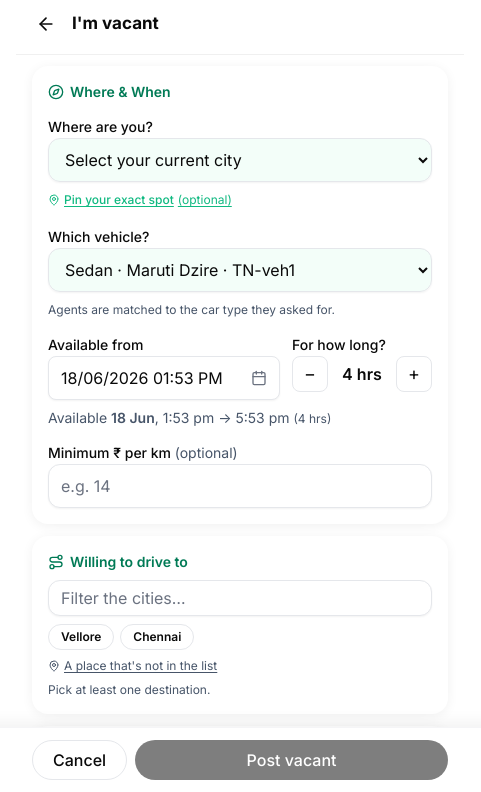
PostVacancyPage › auto-selects the driver primary vehicle so "Post vacant" enables once city + destination are set
Expected: the dropdown labelled "Which vehicle" shows "Sedan · Maruti Dzire · TN-veh1", top-left (48, 248), bottom-right (432, 292)
Select "Vellore" in the dropdown labelled "Where are you?". click: x=240, y=160
box: top-left (48, 138), bottom-right (432, 182)
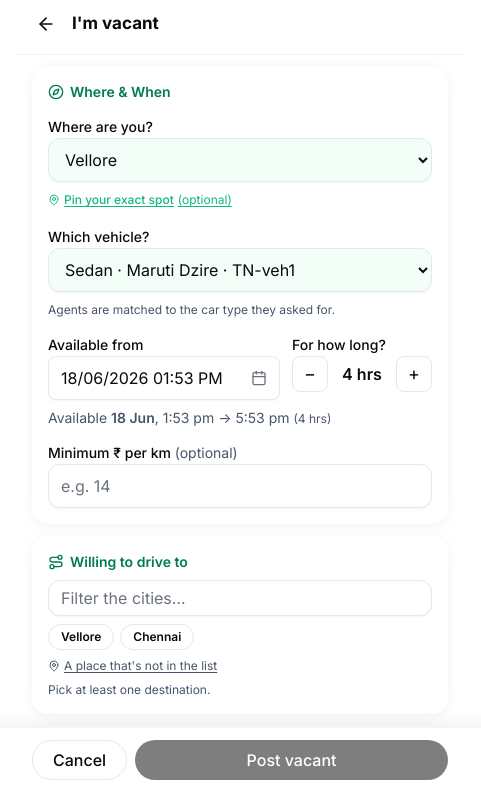
Click the button "Chennai". click: x=157, y=637
box: top-left (120, 624), bottom-right (194, 650)
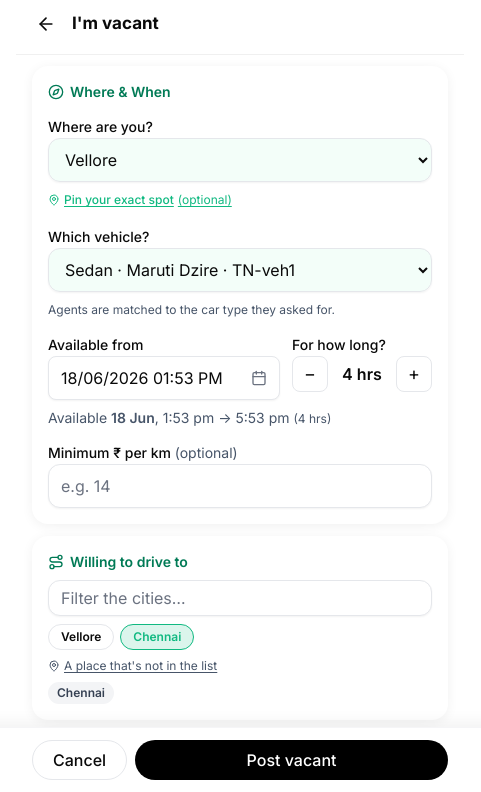
Result: the button "Post vacant" is enabled at top-left (135, 740), bottom-right (448, 780)
